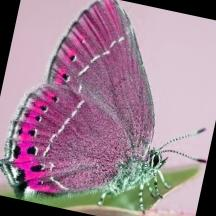butterfly: (0, 0, 165, 197)
